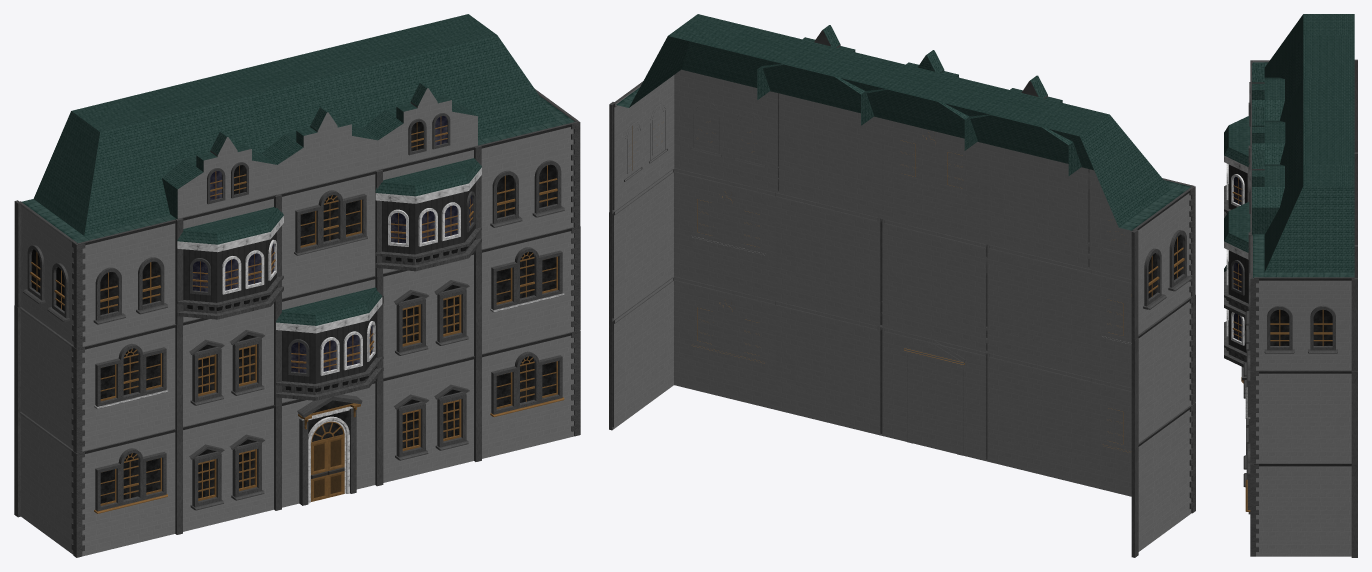
File: Mansion.001_House.001b.fbx
3 views of the same model, side by side, from view 1: azimuth 30°, elevation 25°; view 2: azimuth 150°, elevation 25°; view 3: azimuth 270°, elevation 25° (orthographic). The views are drawn at different scales.
Visible parts, largest first — view 1: Mansion001_House_001; view 2: Mansion001_House_001; view 3: Mansion001_House_001.
Boxes of the visible parts, x1,y1,x2,y2 form: Mansion001_House_001: (14, 14, 580, 557); Mansion001_House_001: (609, 14, 1195, 557); Mansion001_House_001: (1224, 14, 1357, 557).
Size of the model in its own units: 2047 by 1494 by 520.
